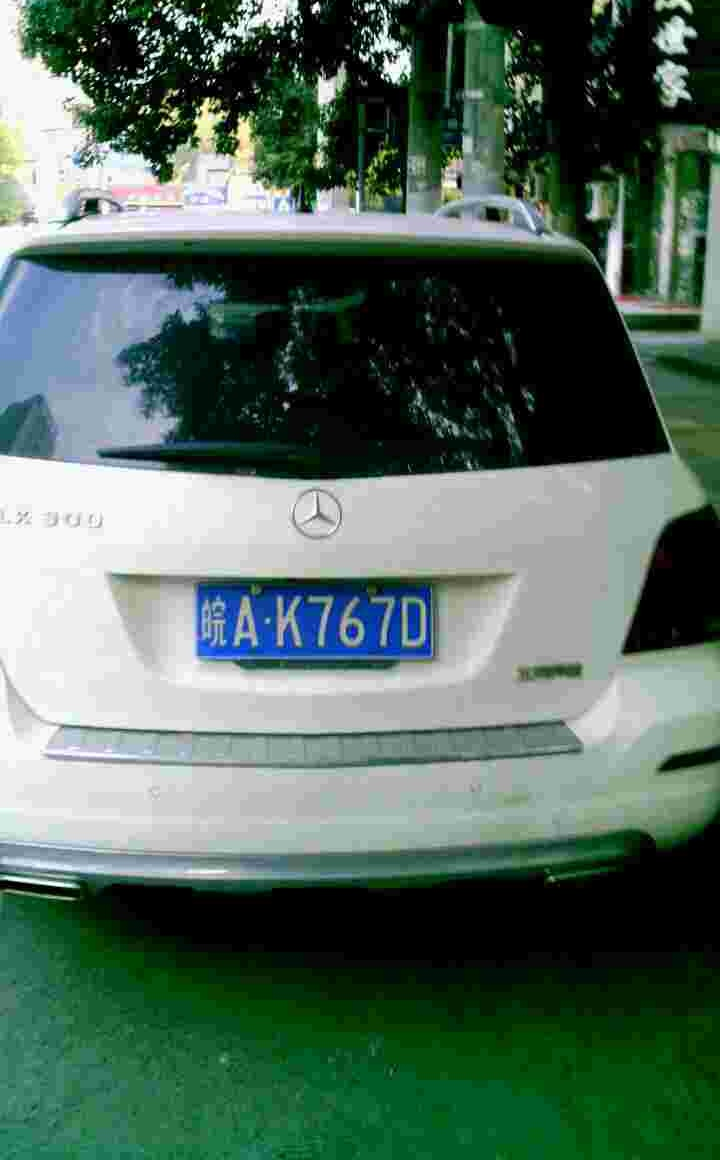license_plate: (190, 578, 443, 656)
